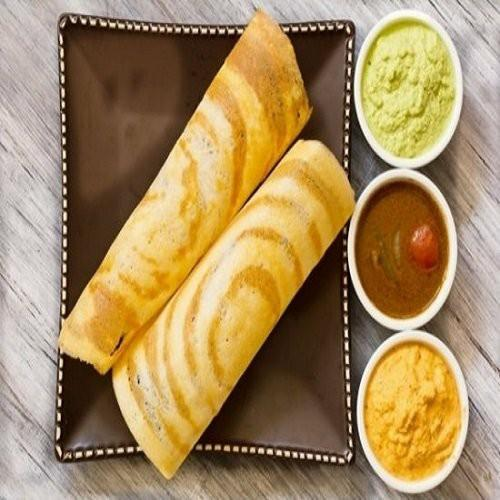Dosa: (58, 8, 313, 376), (110, 139, 355, 480)
GreenChutney: (365, 21, 457, 159)
